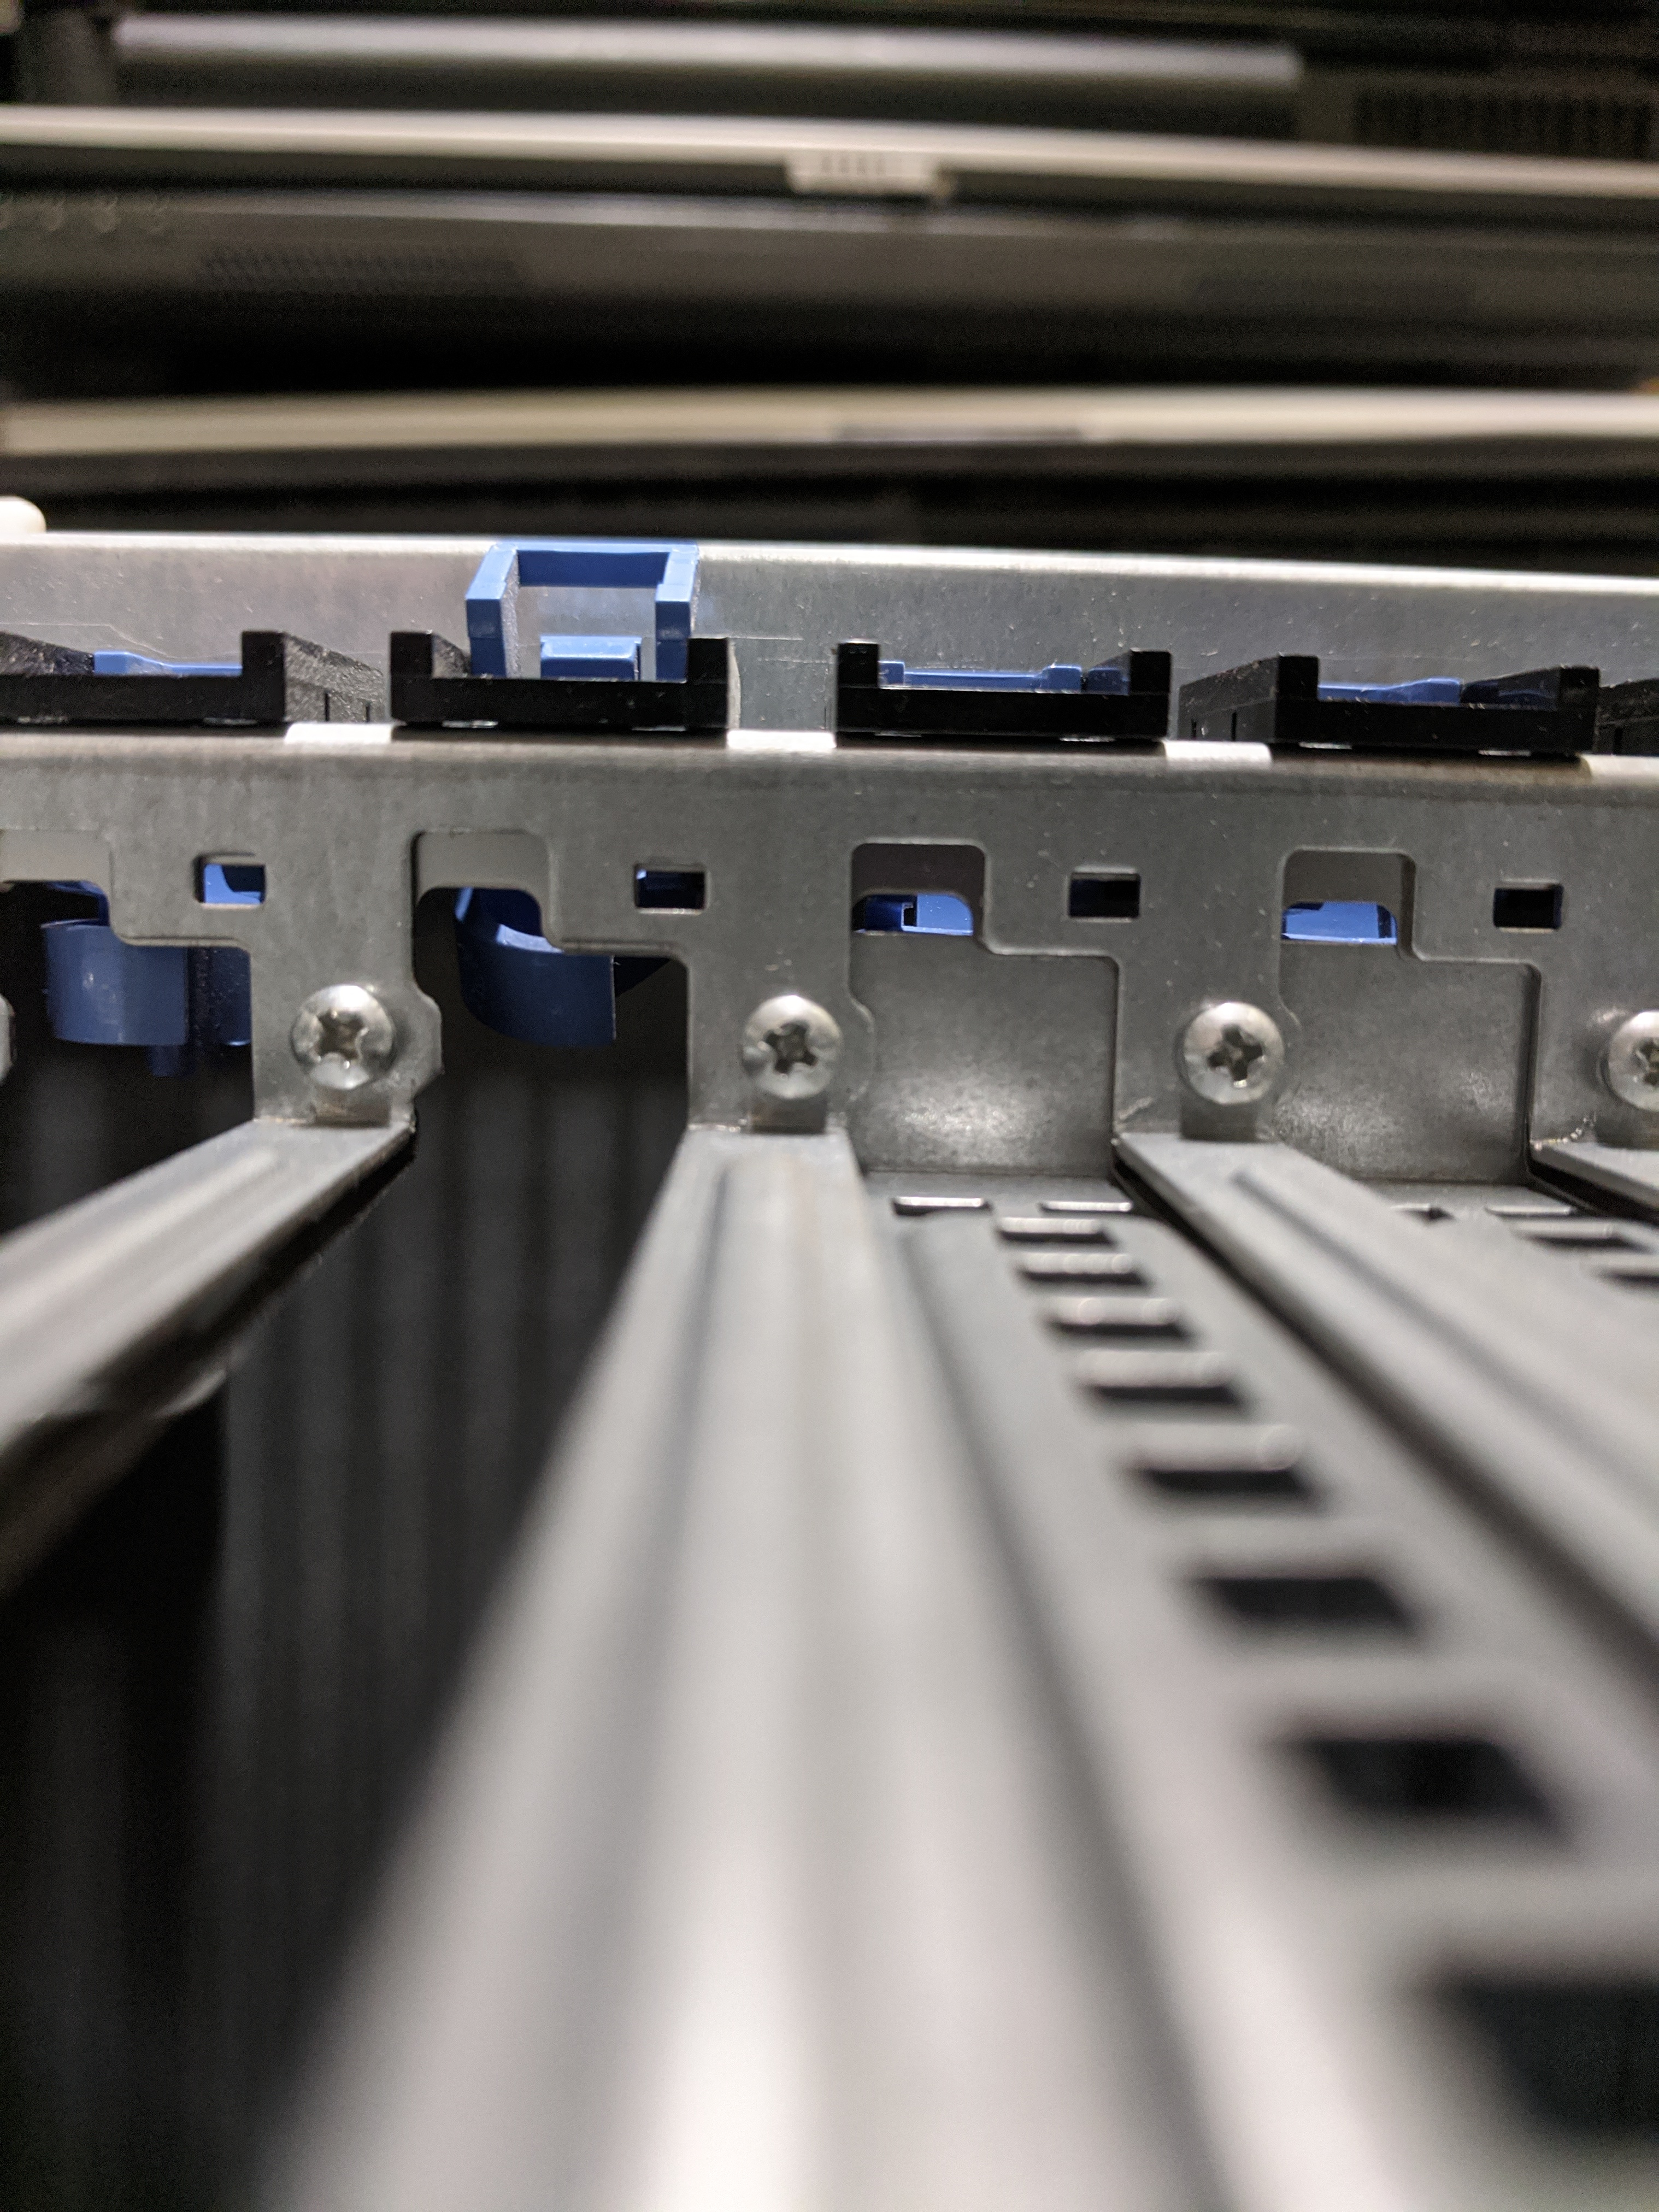cross_recessed_screw: (727, 977, 856, 1116), (1171, 989, 1297, 1108), (279, 975, 397, 1099), (1593, 996, 1657, 1113)
